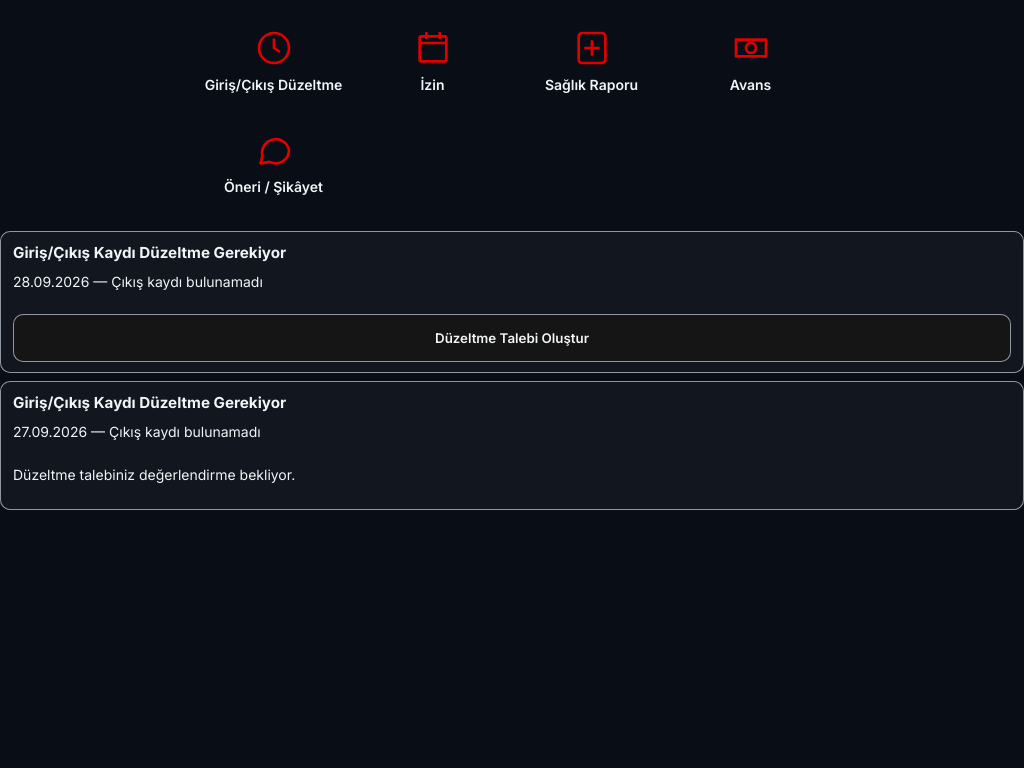
Test: PERSONEL collar → QR UI entitlement (render level) › opens the existing correction request with prefill and blocks a second CTA while one is pending
The image size is (1024, 768).
Expected: the text "Giriş/Çıkış Kaydı Düzeltme Gerekiyor" is shown 2 times, [13,243,286,262]; [13,393,286,412]
Expected: the number of elements with test id "personel-talep-anomaly-card" is 2, [0,231,1023,373]; [0,381,1023,510]
Click the button with test id "personel-talep-anomaly-cta" at coordinates (512, 338), box [13,314,1011,362]
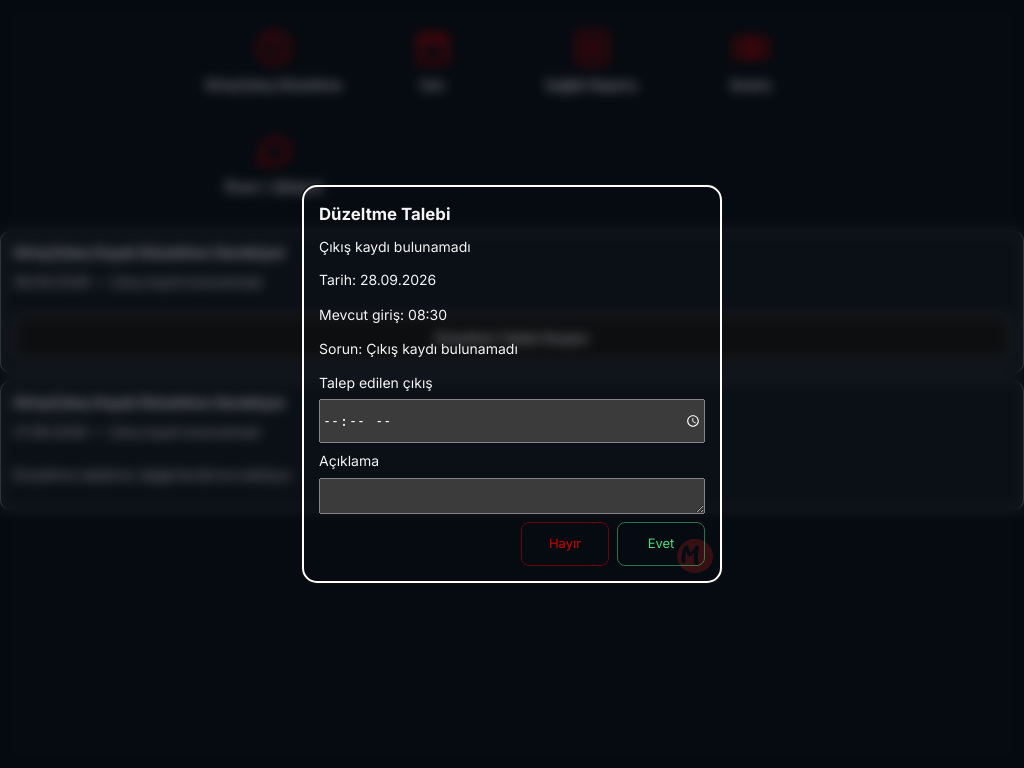
Expected: the element with test id "attendance-anomaly-prefill" shows "28.09.2026", [360,271,436,288]
Expected: the element with test id "attendance-anomaly-prefill" shows "08:30", [408,306,447,322]
Expected: the element with test id "attendance-anomaly-prefill" shows "Çıkış kaydı bulunamadı", [366,340,518,357]
